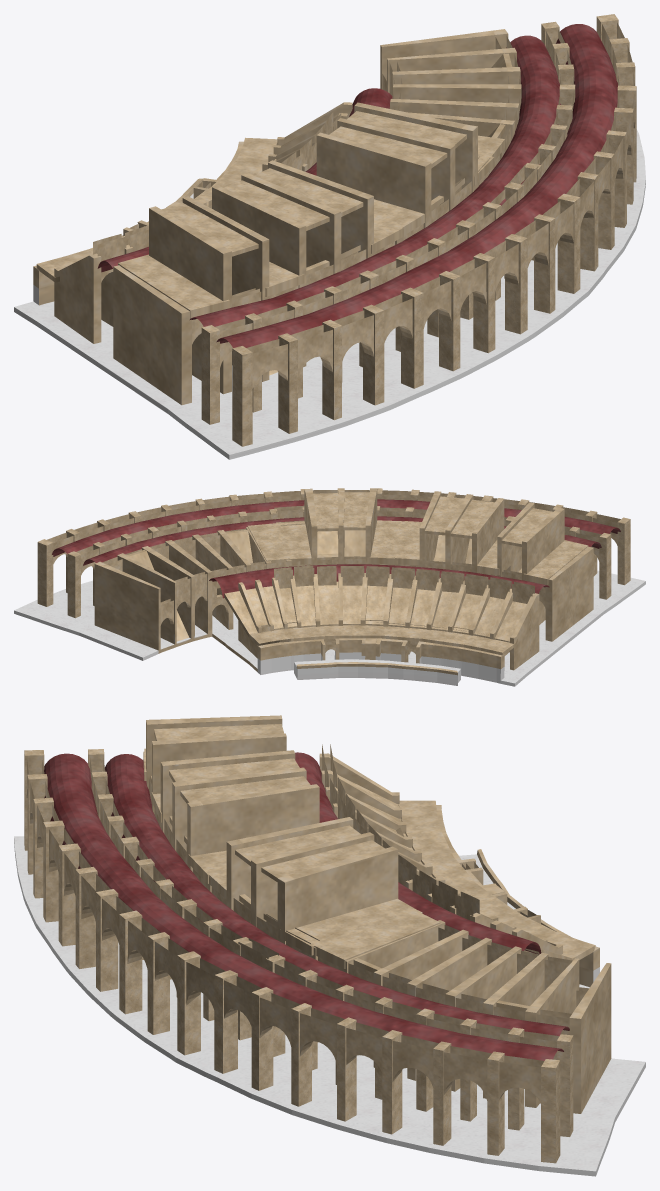
File: colera1v3.glb
3 views of the same model, one above another, from view 1: azimuth 30°, elevation 25°; view 2: azimuth 150°, elevation 25°; view 3: azimuth 270°, elevation 25° (orthographic). The views are drawn at different scales.
Visible parts, largest first — view 1: Cube.206; view 2: Cube.206; view 3: Cube.206.
Boxes of the visible parts, bbox=[...] form: Cube.206: bbox=[14, 14, 645, 459]; Cube.206: bbox=[14, 488, 645, 686]; Cube.206: bbox=[14, 715, 645, 1176].
Size of the model in its own units: 267 by 55.84 by 210.
Materials: 1 (1 with a texture image).
